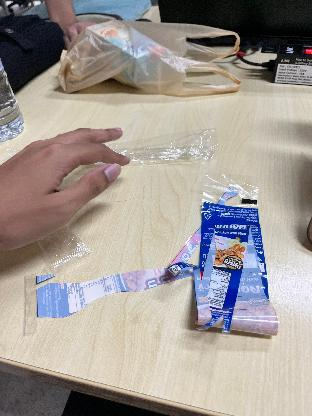Others: (100, 176, 282, 364), (99, 123, 226, 171)
